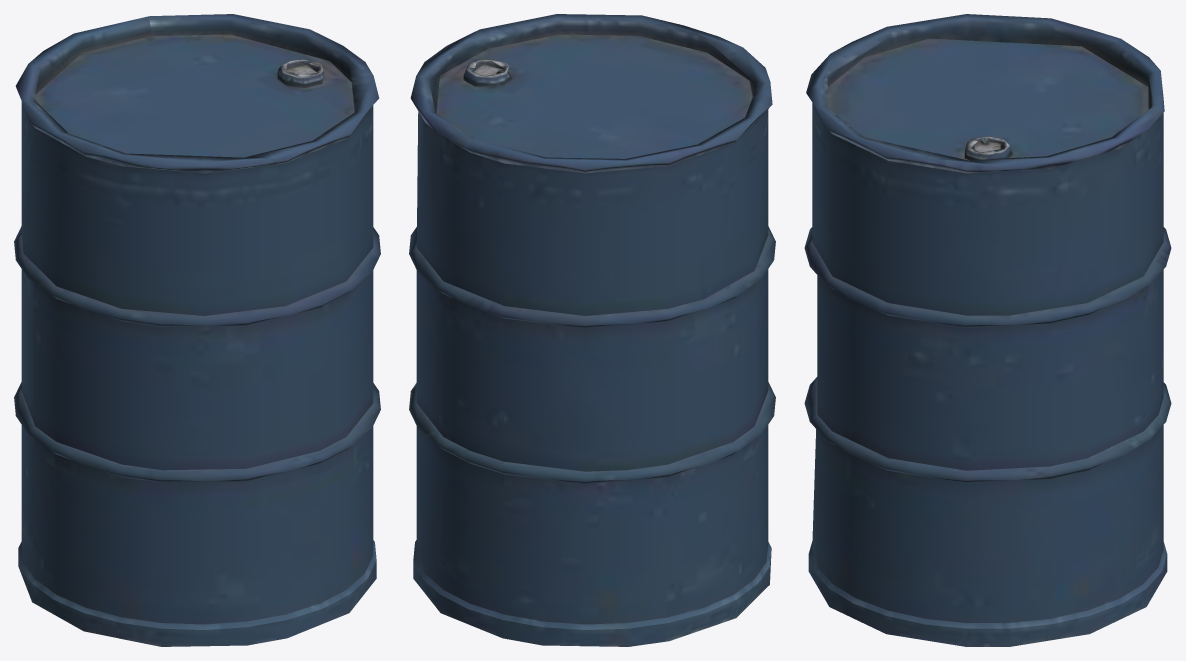
Rendered from barrel_03.83a0d1f3.glb.
The picture shows the model from 3 angles, left to right: view 1: azimuth 30°, elevation 25°; view 2: azimuth 150°, elevation 25°; view 3: azimuth 270°, elevation 25°; orthographic projection.
Parts seen in each view (by area): view 1: barrel_03; view 2: barrel_03; view 3: barrel_03.
Part boxes in pixels (<box>): barrel_03: <box>14,14,380,646</box>; barrel_03: <box>409,14,775,646</box>; barrel_03: <box>804,14,1171,646</box>.
Bounding box in the file's own units: 0.634 × 0.9305 × 0.6386.
1 material, 1 textured.
